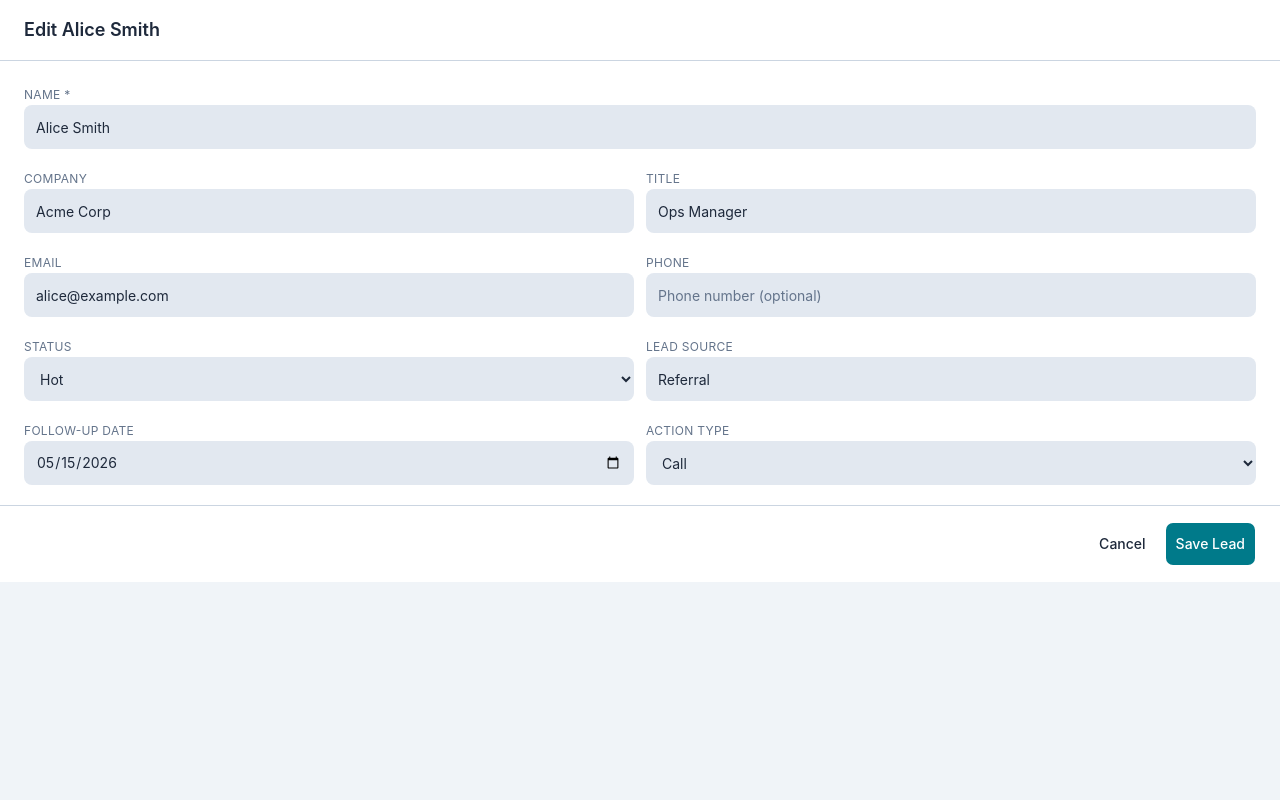
Test: LeadForm › logs the lead id and surfaces a generic error when updateLead rejects (EH-01)
This screenshot has width=1280, height=800.
Click the button "Save Lead" at [1210, 544], box [1165,522,1256,566]
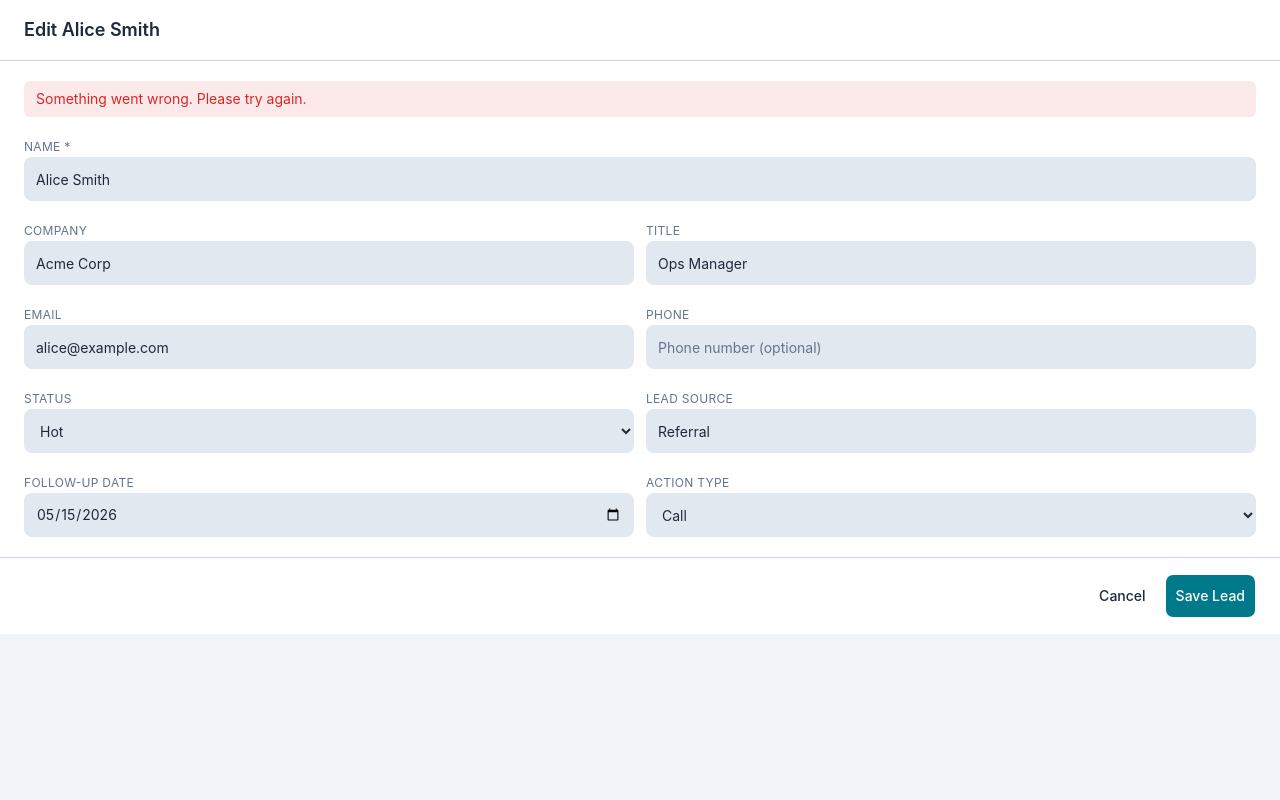
Expected: the message shows "Something went wrong", [36,90,307,107]
